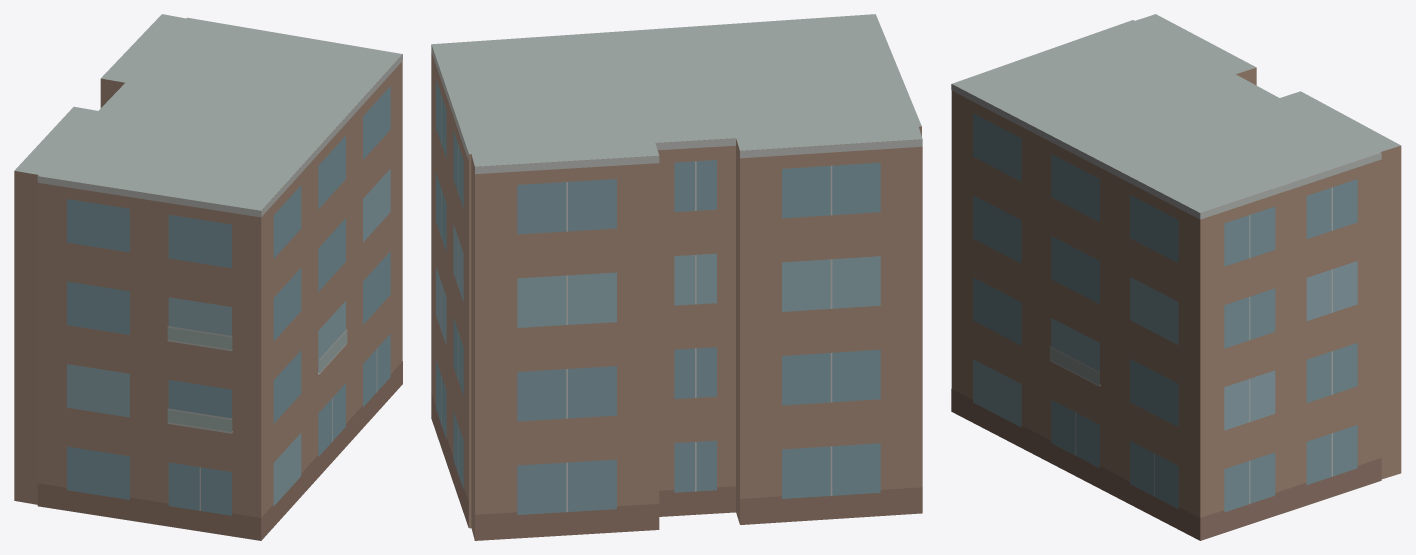
Rendered from survey-upis-32644191.glb.
3 views of the same model, side by side, from view 1: azimuth 30°, elevation 25°; view 2: azimuth 150°, elevation 25°; view 3: azimuth 270°, elevation 25° (orthographic). The views are drawn at different scales.
Visible parts, largest first — view 1: survey-upis-32644191.tmp; view 2: survey-upis-32644191.tmp; view 3: survey-upis-32644191.tmp.
Boxes of the visible parts, x1=… form: survey-upis-32644191.tmp: x1=14, y1=14, x2=402, y2=540; survey-upis-32644191.tmp: x1=431, y1=14, x2=922, y2=540; survey-upis-32644191.tmp: x1=951, y1=14, x2=1401, y2=540.
Size of the model in its own units: 15.9 by 12.2 by 15.18.
